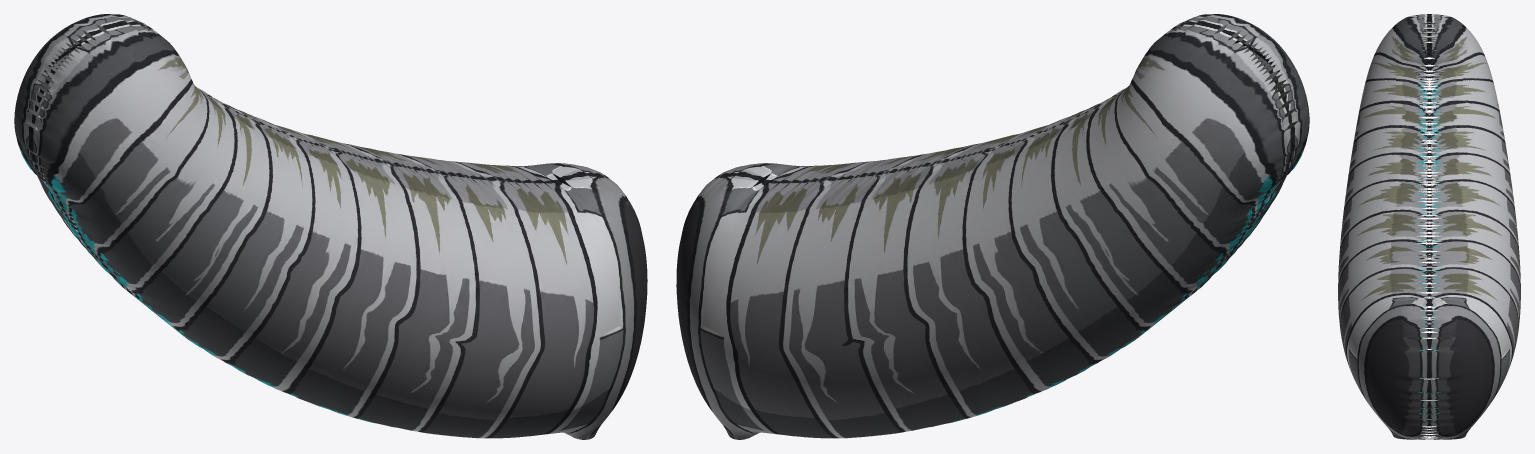
Rendered from elbow_conduit.glb.
3 views of the same model, side by side, from view 1: azimuth 30°, elevation 25°; view 2: azimuth 150°, elevation 25°; view 3: azimuth 270°, elevation 25° (orthographic). The views are drawn at different scales.
Visible parts, largest first — view 1: elbow_conduit; view 2: elbow_conduit; view 3: elbow_conduit.
Boxes of the visible parts, x1,y1,x2,y2 form: elbow_conduit: (14, 14, 647, 439); elbow_conduit: (676, 14, 1309, 439); elbow_conduit: (1338, 14, 1520, 439).
Size of the model in its own units: 0.989 by 0.7943 by 0.4528.
Materials: 1 (1 with a texture image).
